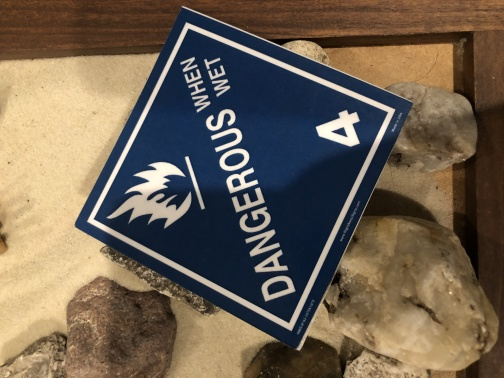DangerousWhenWet: (86, 15, 401, 341)
